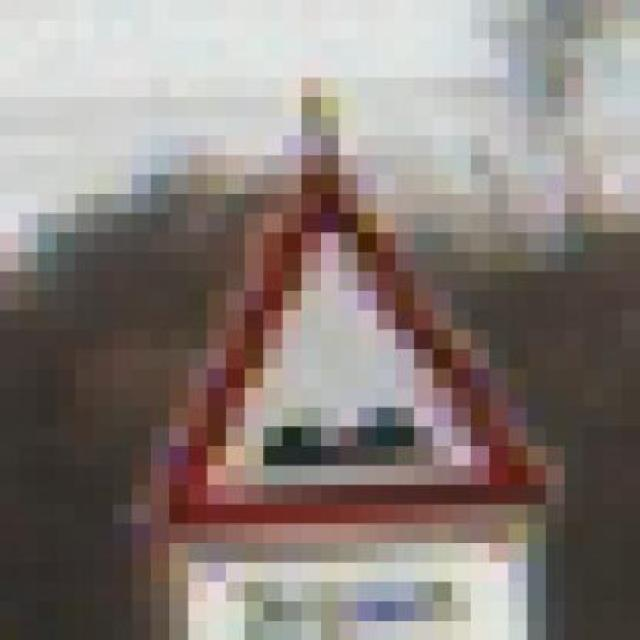Uneven Road: (112, 116, 565, 524)
